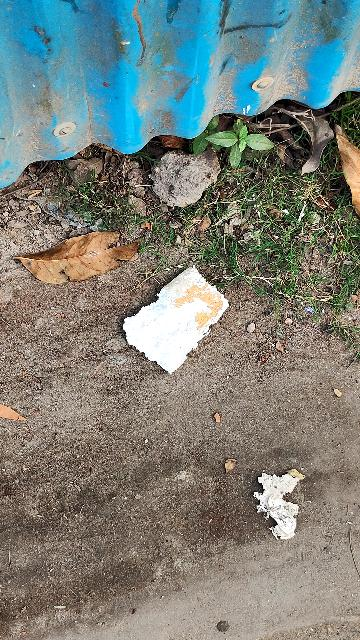cocksheet: (117, 262, 244, 387)
